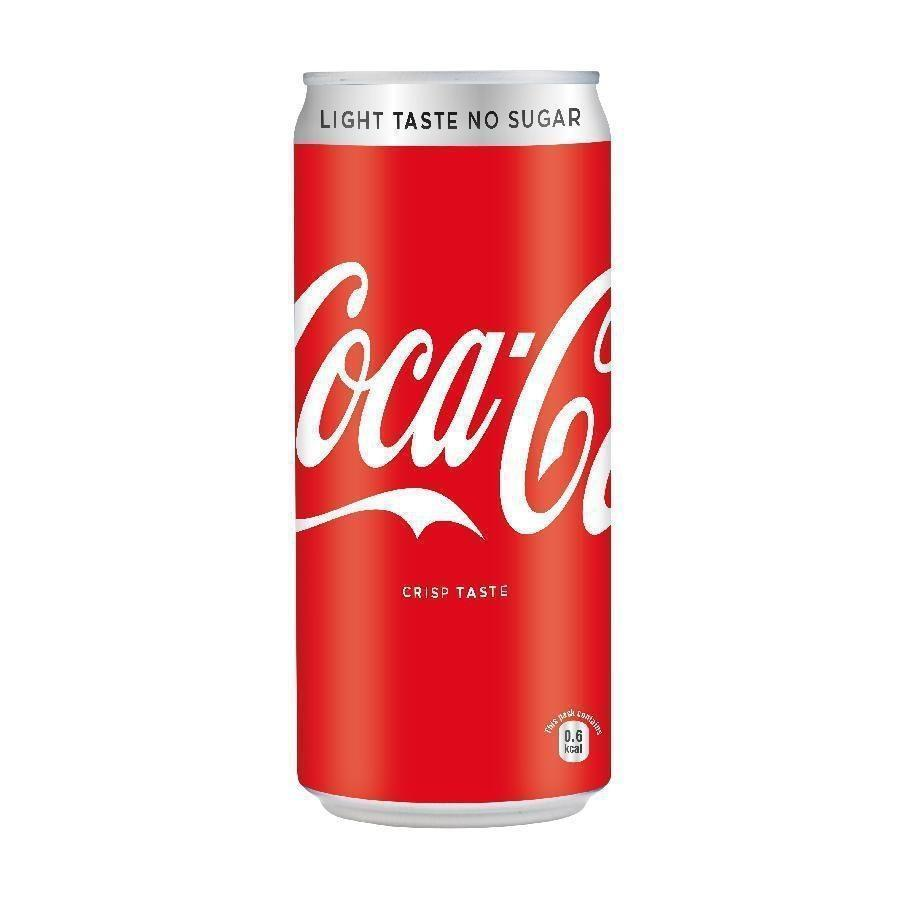tin can: (286, 55, 617, 834)
